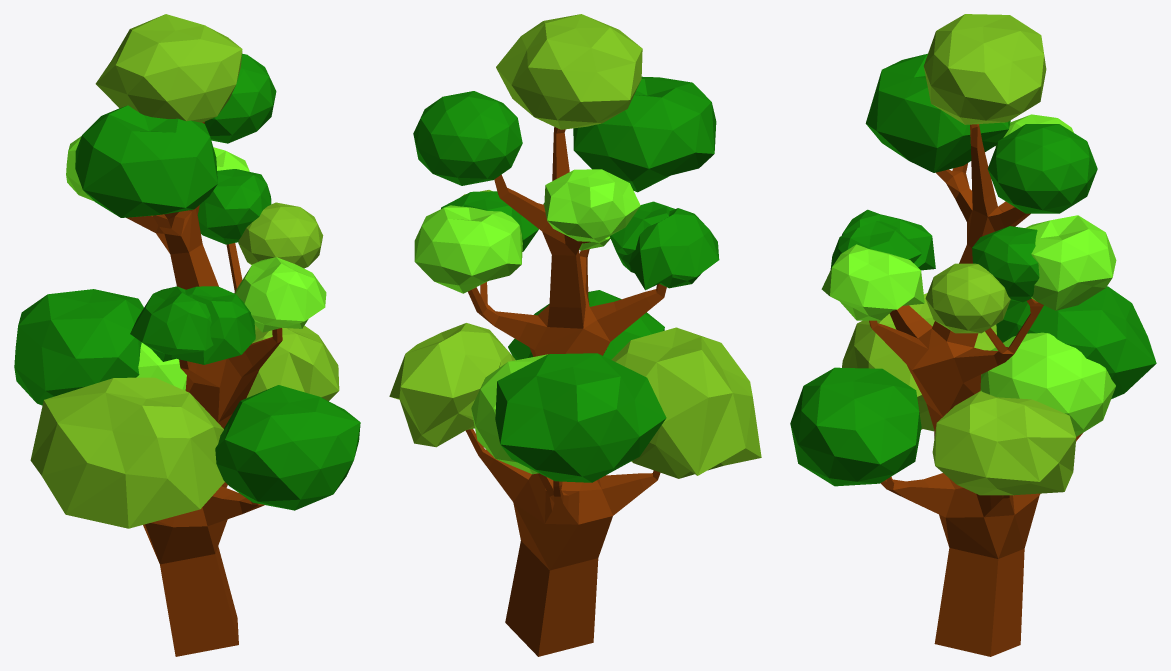
Rendered from tree2.fbx.
3 views of the same model, side by side, from view 1: azimuth 30°, elevation 25°; view 2: azimuth 150°, elevation 25°; view 3: azimuth 270°, elevation 25° (orthographic).
Parts seen in each view (by area): view 1: leaf, tree_trunk; view 2: leaf, tree_trunk; view 3: leaf, tree_trunk.
Part boxes in pixels (bbox=[...]): leaf: bbox=[14, 14, 360, 528]; tree_trunk: bbox=[126, 121, 282, 656]; leaf: bbox=[389, 14, 761, 482]; tree_trunk: bbox=[465, 127, 666, 656]; leaf: bbox=[790, 14, 1156, 495]; tree_trunk: bbox=[869, 124, 1082, 656].
Bounding box in the file's own units: 495 × 923 × 502.
